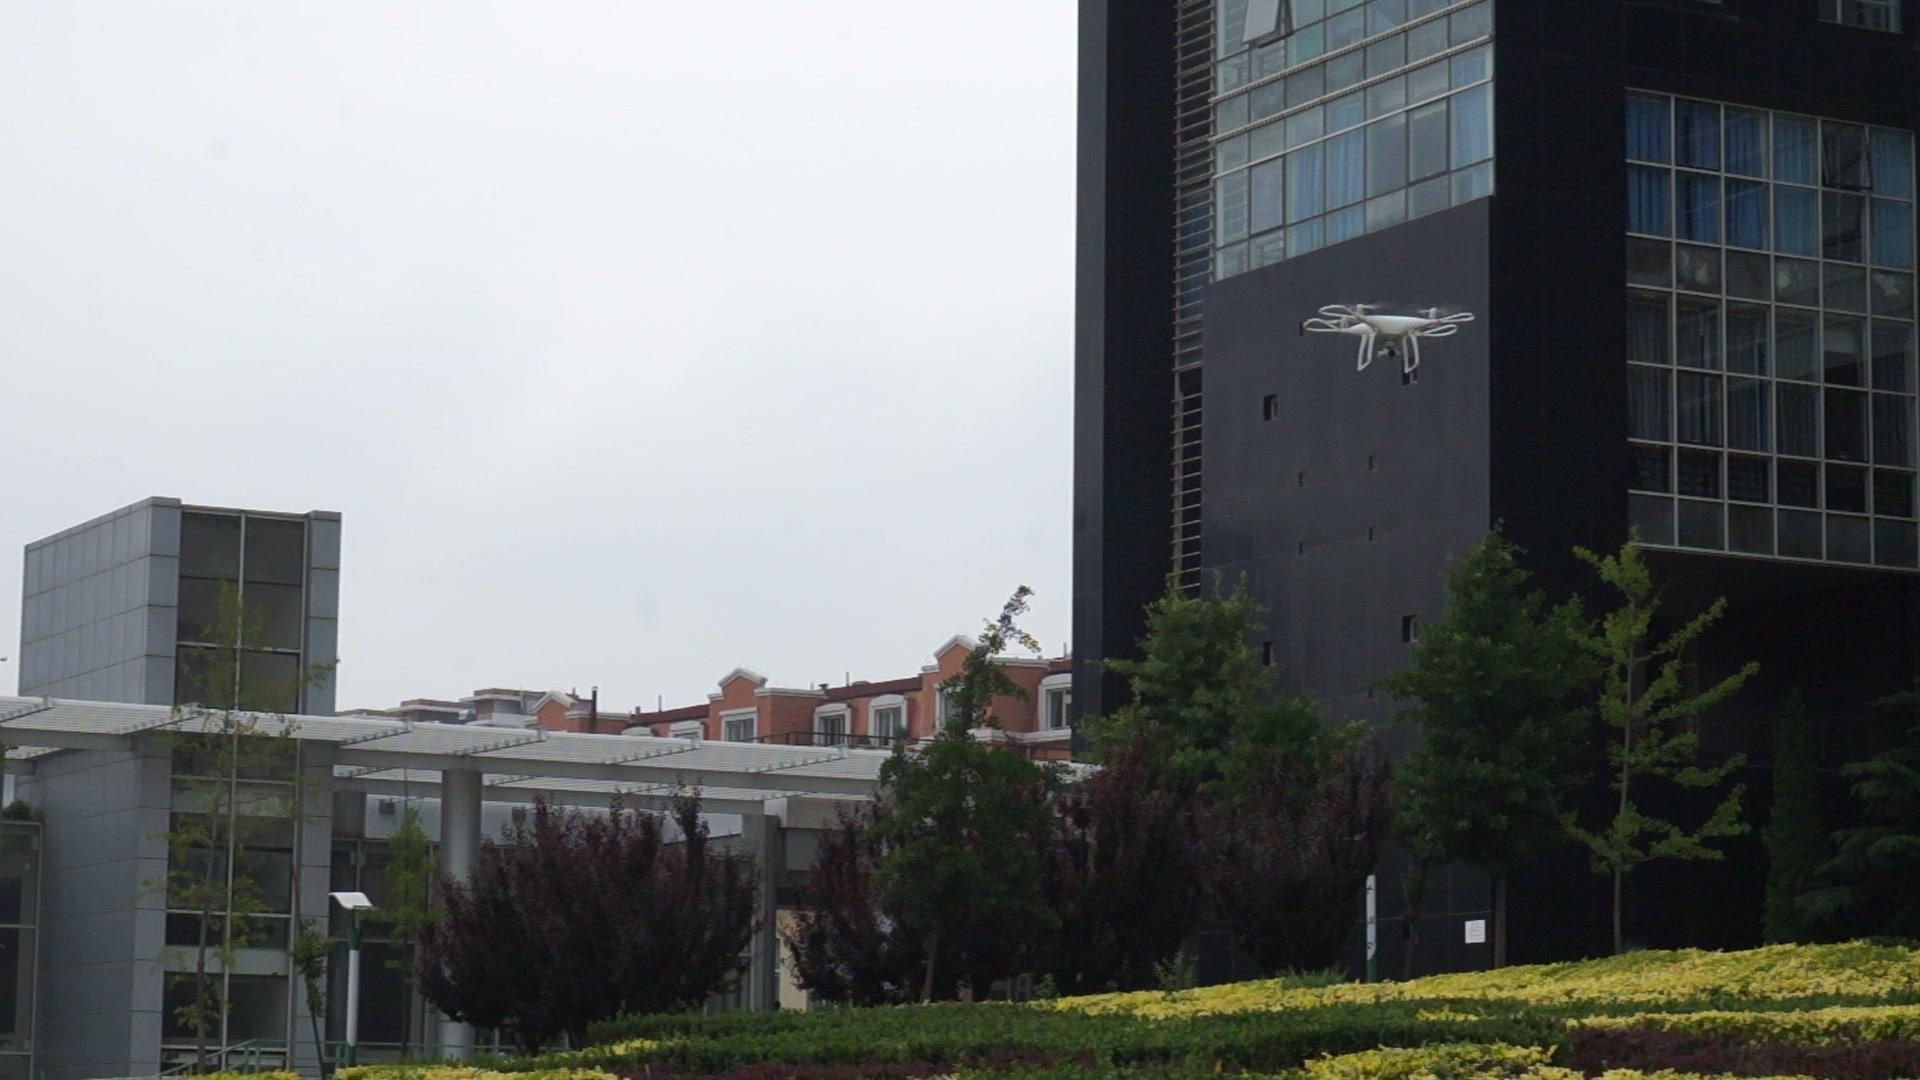UAV: (1303, 303, 1477, 375)
